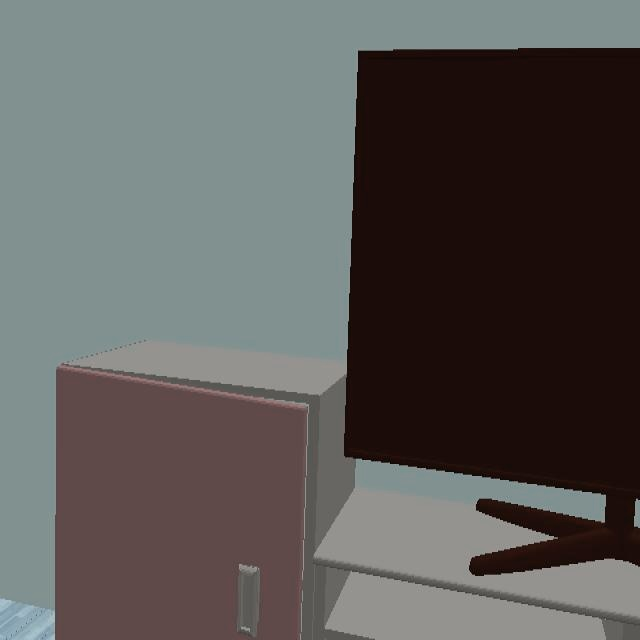cabinet: (56, 342, 640, 638)
monitor: (345, 48, 640, 574)
